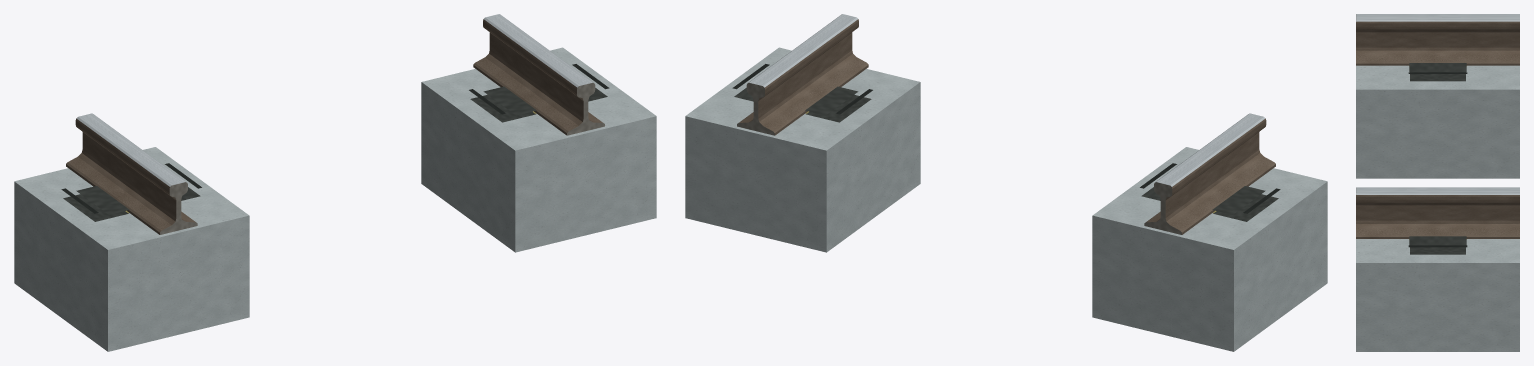
The model's file is direct_low.obj.
3 renders of one model, left to right at view 1: azimuth 30°, elevation 25°; view 2: azimuth 150°, elevation 25°; view 3: azimuth 270°, elevation 25°, orthographic. The views are drawn at different scales.
Visible parts, largest first — view 1: direct_bearer, rail_left, rail_right, fastener_right, fastener_left, rail_left_end, rail_right_end; view 2: direct_bearer, rail_left, rail_right, fastener_right, fastener_left, rail_left_end, rail_right_end; view 3: direct_bearer, rail_right, rail_left, fastener_right, fastener_left.
Boxes of the visible parts, x1=… form: direct_bearer: x1=14, y1=47, x2=656, y2=351; rail_left: x1=66, y1=113, x2=195, y2=234; rail_right: x1=473, y1=14, x2=602, y2=135; fastener_right: x1=469, y1=64, x2=609, y2=122; fastener_left: x1=61, y1=163, x2=201, y2=221; rail_left_end: x1=160, y1=182, x2=197, y2=234; rail_right_end: x1=567, y1=83, x2=604, y2=135; direct_bearer: x1=685, y1=47, x2=1327, y2=351; rail_left: x1=1146, y1=113, x2=1275, y2=234; rail_right: x1=739, y1=14, x2=868, y2=135; fastener_right: x1=732, y1=64, x2=872, y2=122; fastener_left: x1=1140, y1=163, x2=1280, y2=221; rail_left_end: x1=1144, y1=182, x2=1181, y2=234; rail_right_end: x1=737, y1=83, x2=774, y2=135; direct_bearer: x1=1356, y1=65, x2=1519, y2=351; rail_right: x1=1356, y1=187, x2=1519, y2=238; rail_left: x1=1356, y1=14, x2=1519, y2=65; fastener_right: x1=1408, y1=236, x2=1467, y2=254; fastener_left: x1=1408, y1=63, x2=1467, y2=81.
Bounding box in the file's own units: 2.03 × 0.5324 × 0.6.
1 material, 1 textured.
